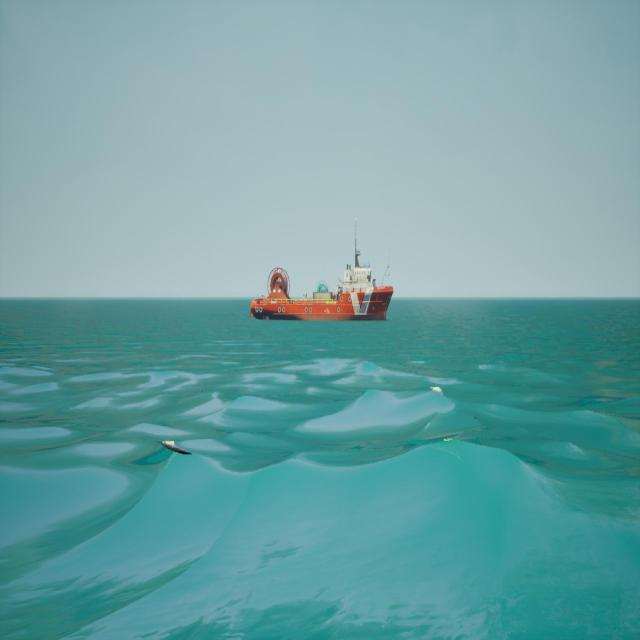tug boat: (251, 219, 396, 325)
